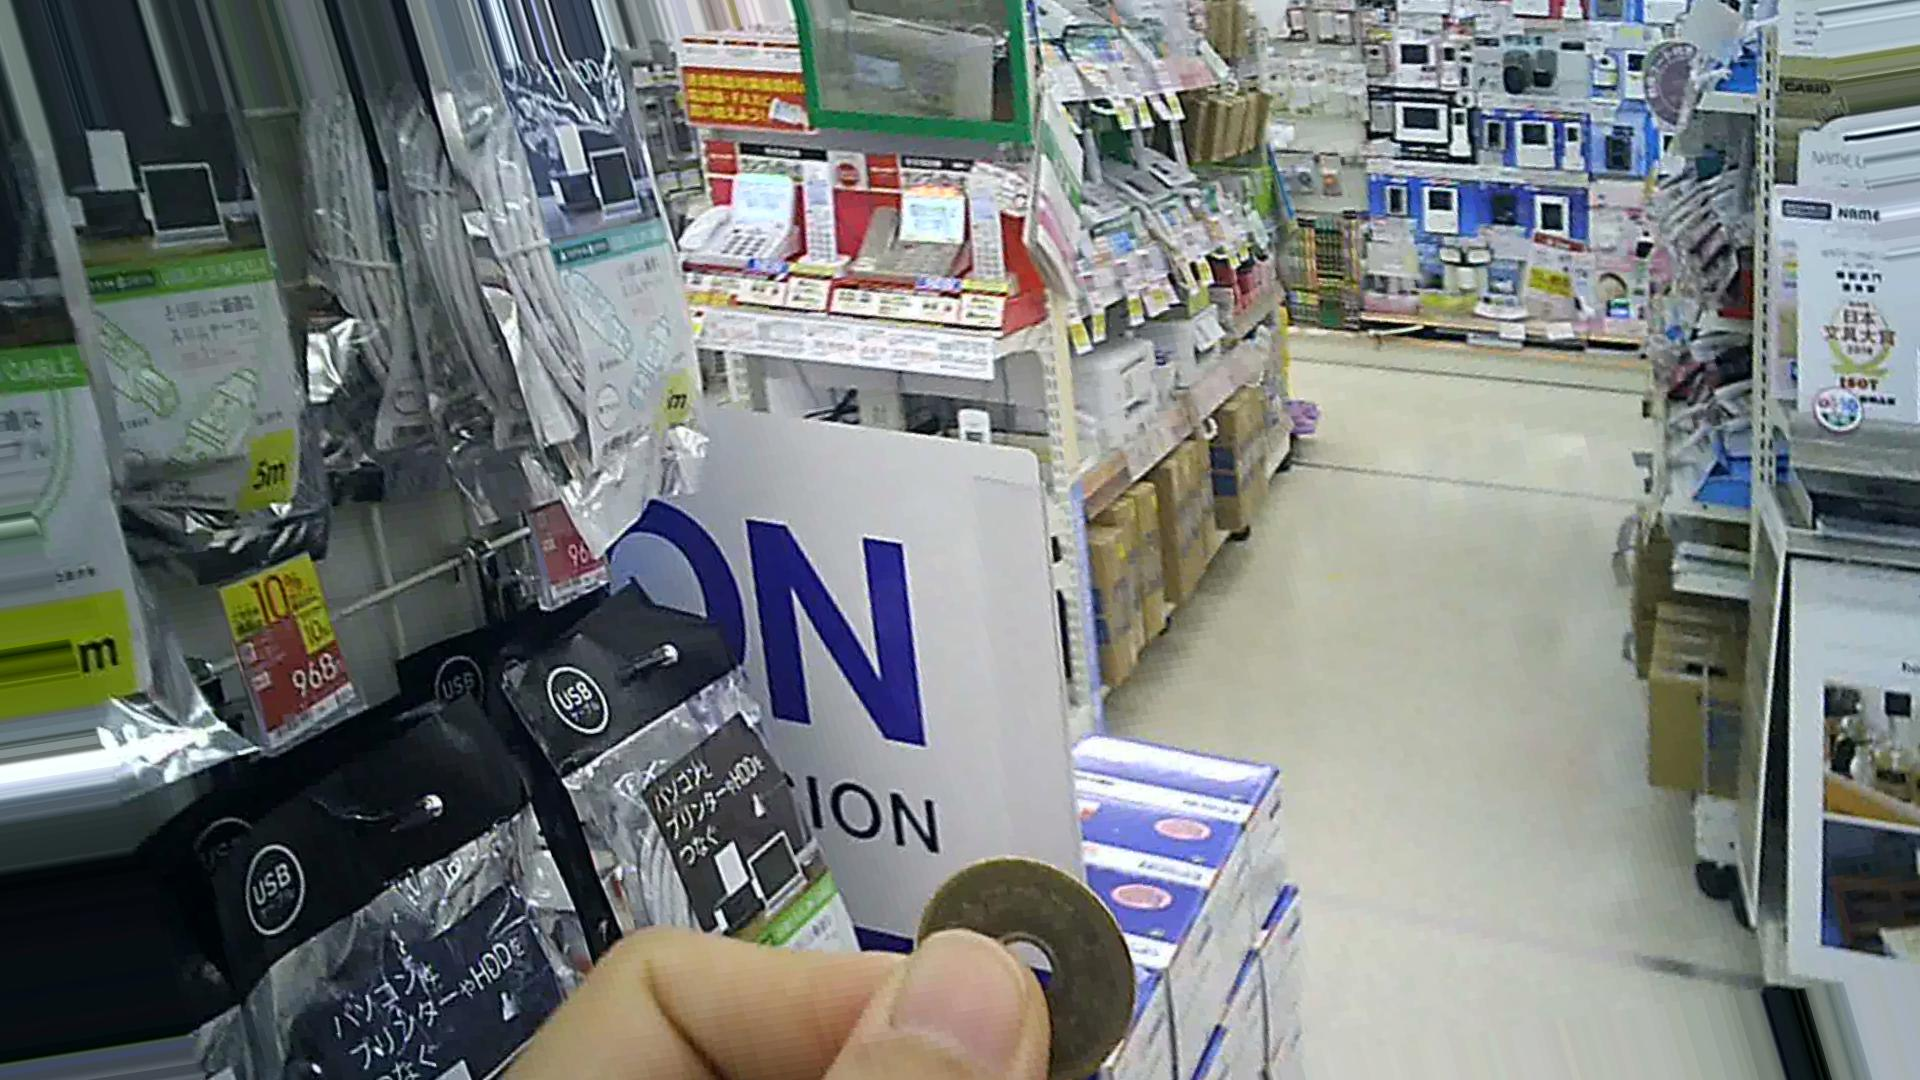5 Yen: (887, 860, 1135, 1077)
